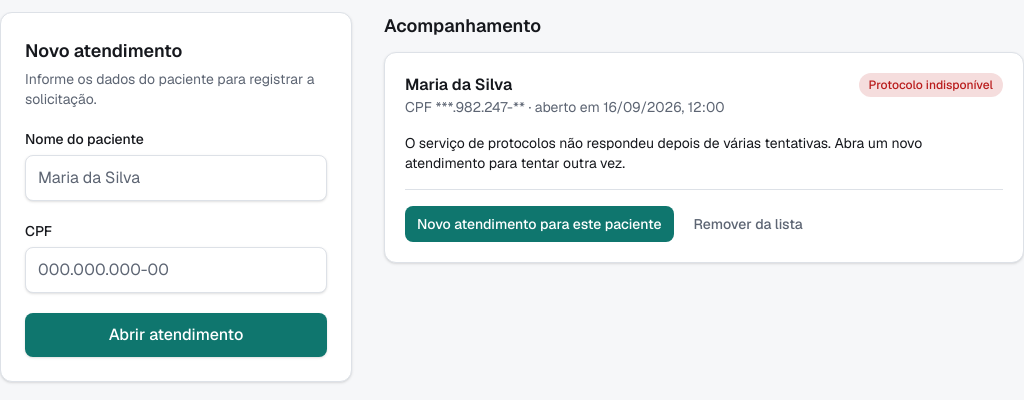
it: AttendancePanel › mantém o atendimento e explica quando a renovação é recusada
expect the text "Protocolo indisponível" is shown: met, box [858,73,1003,97]
What coordinates should you click on to do the following:
click the button "Novo atendimento para este paciente"
I would click on:
 (539, 224)
Its box is [405,206,674,242].
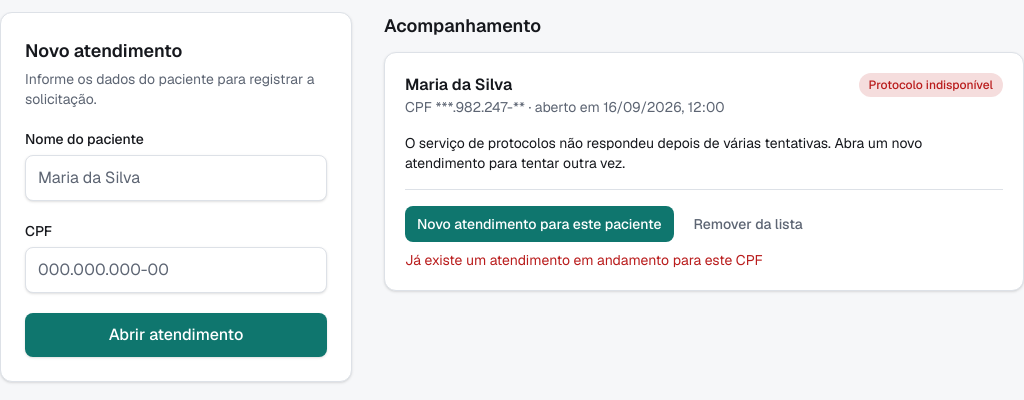
expect the text "Protocolo indisponível" is shown: met, box [858,73,1003,97]
expect the text "Já existe um atendimento em andamento para este CPF" is shown: met, box [405,251,763,269]
